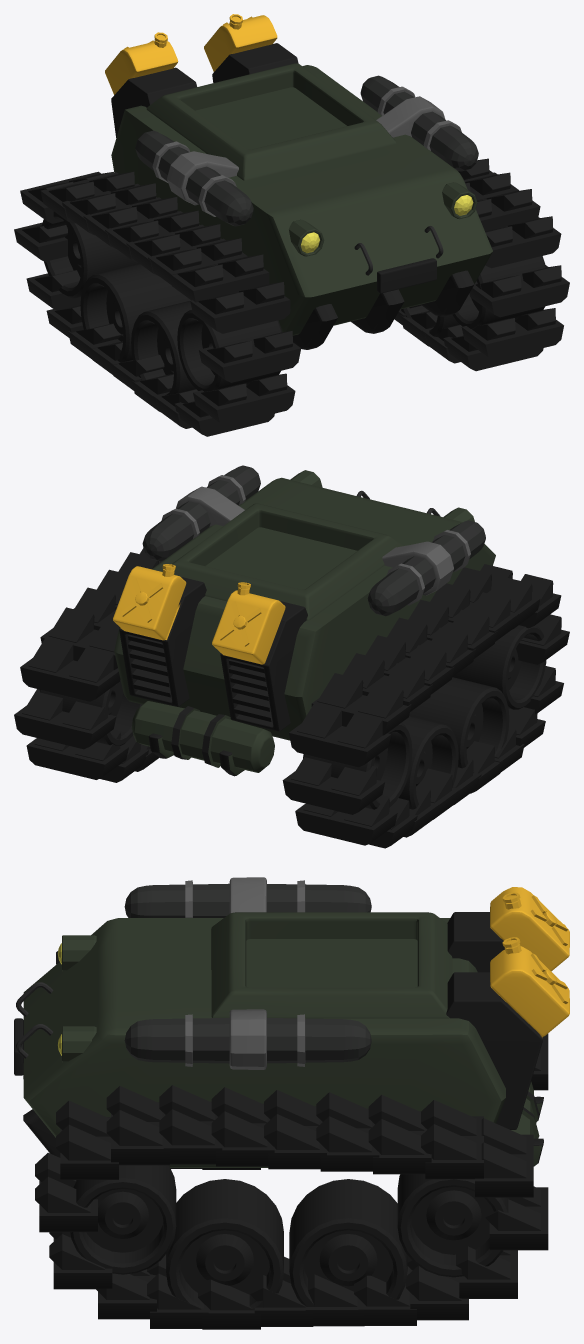
The model's file is TankBottomTextured.fbx.
The picture shows the model from 3 angles, top to bottom: view 1: azimuth 30°, elevation 25°; view 2: azimuth 150°, elevation 25°; view 3: azimuth 270°, elevation 25°; orthographic projection. The views are drawn at different scales.
Visible parts, largest first — view 1: pasted__pasted__polySurface52, pasted__polySurface50, side_canister, pasted__polySurface84, polySurface13, pasted__polySurface123, pasted__pasted__polySurface122, polySurface11, pCubeShape3_MASH2_Instancer_13, pCubeShape3_MASH2_Instancer_14, pCubeShape3_MASH2_Instancer_12, pCubeShape4_MASH3_Instancer_12 (+34 smaller); view 2: pasted__pasted__polySurface52, pasted__polySurface50, pasted__polySurface123, pasted__pasted__polySurface122, pasted__pasted__polySurface119, side_canister, pasted__polySurface84, polySurface15, pCubeShape3_MASH2_Instancer_2, pCubeShape4_MASH3_Instancer_2, pCubeShape3_MASH2_Instancer_3, polySurface11 (+28 smaller); view 3: pasted__pasted__polySurface52, pasted__polySurface50, polySurface7, pasted__pasted__polySurface122, pasted__polySurface84, polySurface5, polySurface3, polySurface6, side_canister, pasted__polySurface123, pCubeShape4_MASH3_Instancer_1, pCubeShape4_MASH3_Instancer_15 (+23 smaller).
Boxes of the visible parts, x1,y1,x2,y2 form: pasted__pasted__polySurface52: [111, 65, 492, 335]; pasted__polySurface50: [146, 63, 396, 180]; side_canister: [135, 130, 253, 226]; pasted__polySurface84: [360, 75, 478, 171]; polySurface13: [80, 263, 190, 362]; pasted__polySurface123: [105, 32, 196, 137]; pasted__pasted__polySurface122: [204, 14, 298, 82]; polySurface11: [177, 310, 281, 391]; pCubeShape3_MASH2_Instancer_13: [199, 331, 301, 382]; pCubeShape3_MASH2_Instancer_14: [190, 282, 290, 333]; pCubeShape3_MASH2_Instancer_12: [193, 373, 295, 425]; pCubeShape4_MASH3_Instancer_12: [461, 308, 563, 359]; pasted__pasted__polySurface52: [114, 477, 495, 740]; pasted__polySurface50: [172, 503, 403, 620]; pasted__polySurface123: [212, 582, 307, 731]; pasted__pasted__polySurface122: [113, 564, 206, 706]; pasted__pasted__polySurface119: [131, 701, 274, 776]; side_canister: [367, 520, 485, 616]; pasted__polySurface84: [142, 465, 260, 561]; polySurface15: [409, 677, 509, 773]; pCubeShape3_MASH2_Instancer_2: [289, 703, 391, 767]; pCubeShape4_MASH3_Instancer_2: [20, 637, 120, 701]; pCubeShape3_MASH2_Instancer_3: [282, 757, 384, 814]; polySurface11: [453, 625, 546, 709]; pasted__pasted__polySurface52: [23, 918, 505, 1167]; pasted__polySurface50: [211, 912, 452, 1018]; polySurface7: [166, 1179, 283, 1310]; pasted__pasted__polySurface122: [446, 937, 569, 1129]; pasted__polySurface84: [124, 1009, 371, 1069]; polySurface5: [289, 1179, 407, 1306]; polySurface3: [70, 1165, 176, 1274]; polySurface6: [397, 1174, 509, 1277]; side_canister: [124, 877, 371, 917]; pasted__polySurface123: [447, 887, 569, 972]; pCubeShape4_MASH3_Instancer_1: [421, 1100, 483, 1179]; pCubeShape4_MASH3_Instancer_15: [106, 1086, 169, 1165].
Bounding box in the file's own units: 6.03 × 4.26 × 6.87.
Materials: 8 (7 with a texture image).
